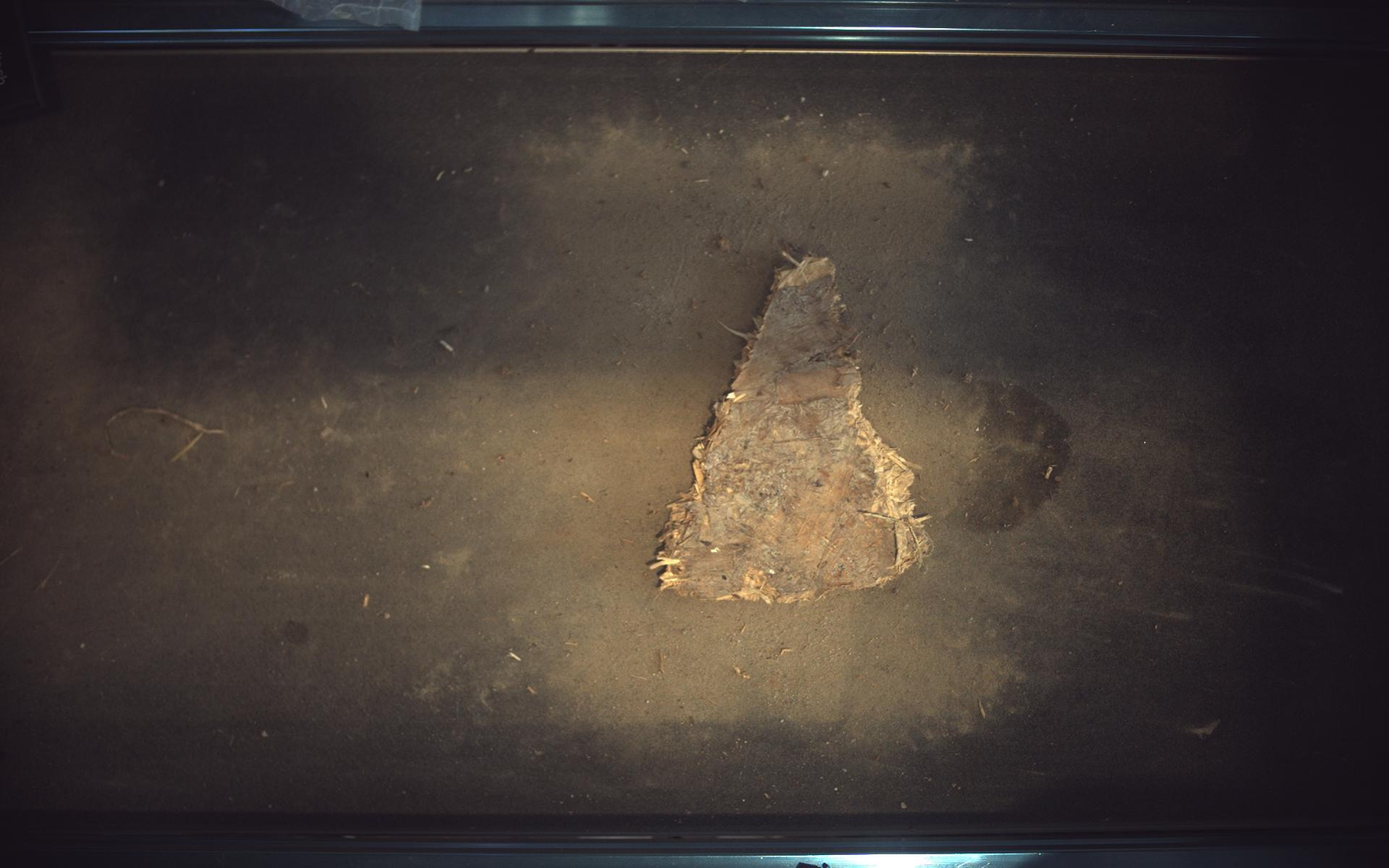wood: (653, 255, 931, 604)
